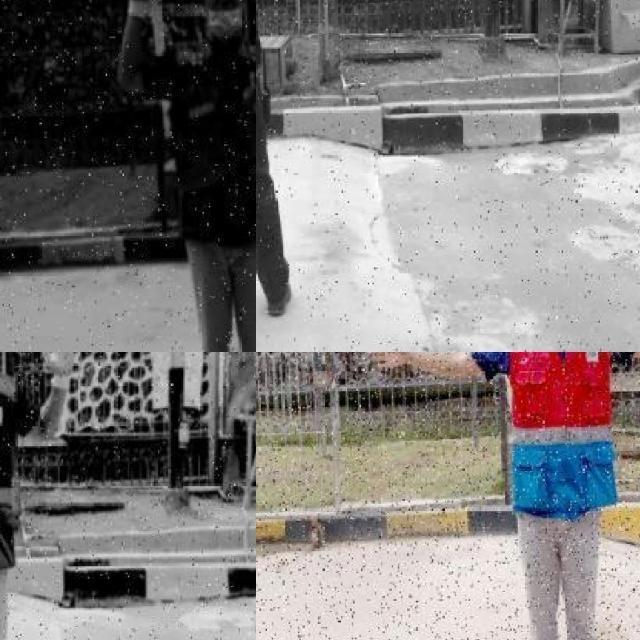apron: (37, 352, 82, 388), (125, 0, 162, 26)
